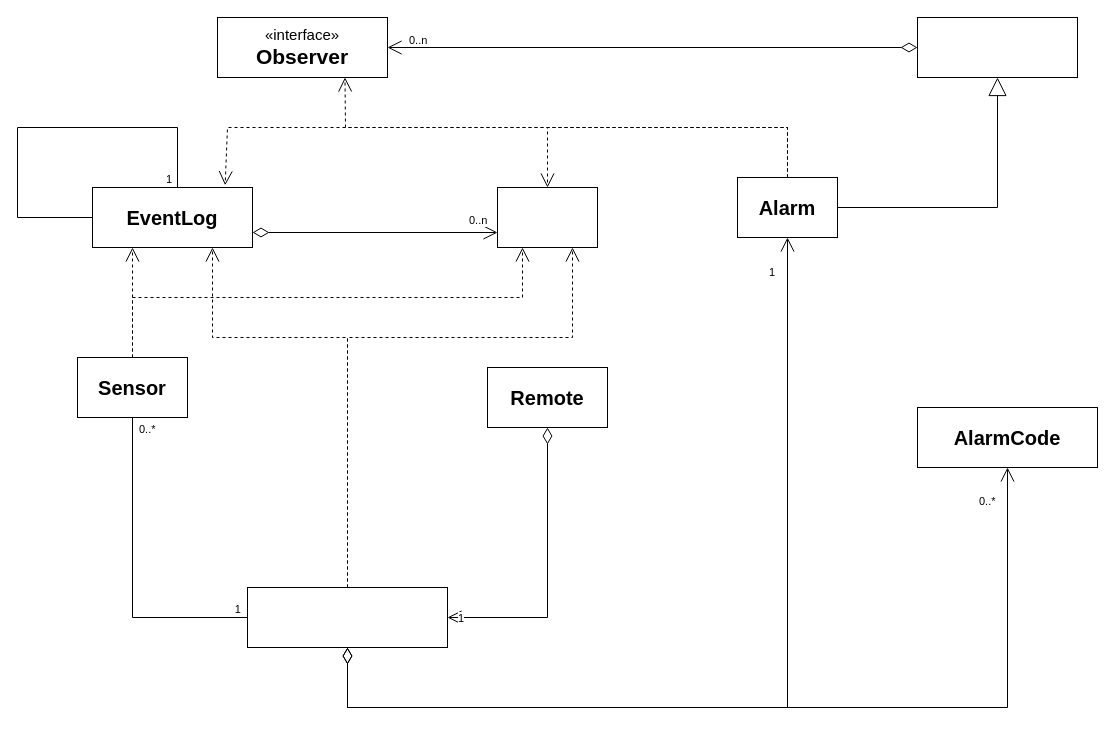
The diagram is 1115 pixels wide and 742 high, and some of its shapes have lost their labels. The centre of each missing label's shape, as x and y in pixels:
"AlarmController" belongs at pixel 347 617.
"Event" belongs at pixel 547 217.
"«abstract» Observable" belongs at pixel 997 47.
